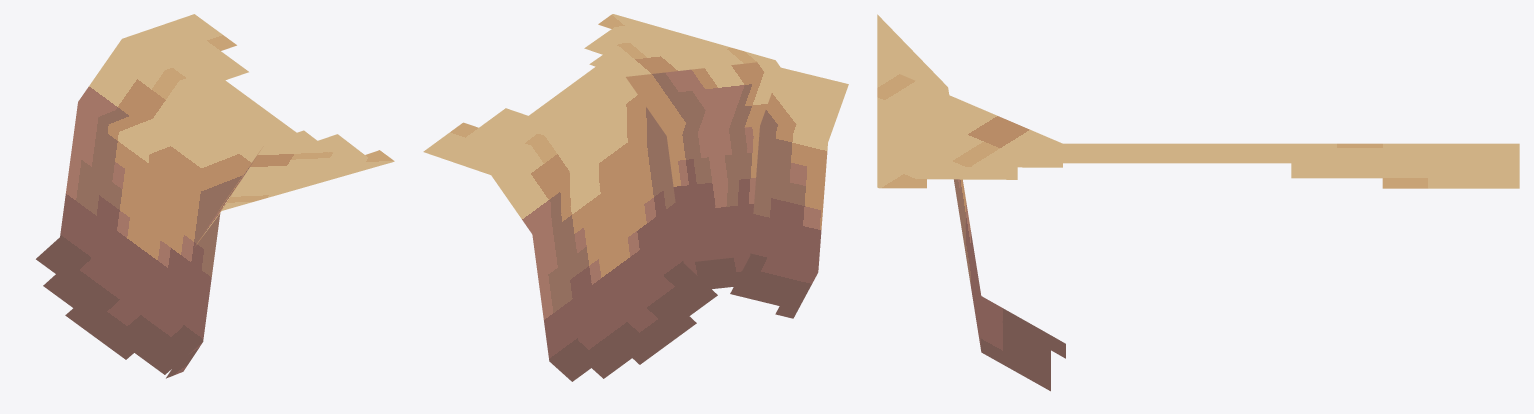
The picture shows the model from 3 angles, left to right: view 1: azimuth 30°, elevation 25°; view 2: azimuth 150°, elevation 25°; view 3: azimuth 270°, elevation 25°; orthographic projection. The views are drawn at different scales.
Bounding box in the file's own units: 0.7236 × 0.6035 × 1.
Materials: 1 (1 with a texture image).
